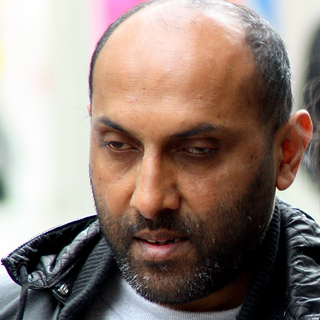eye: (171, 141, 223, 163), (98, 133, 140, 159)
